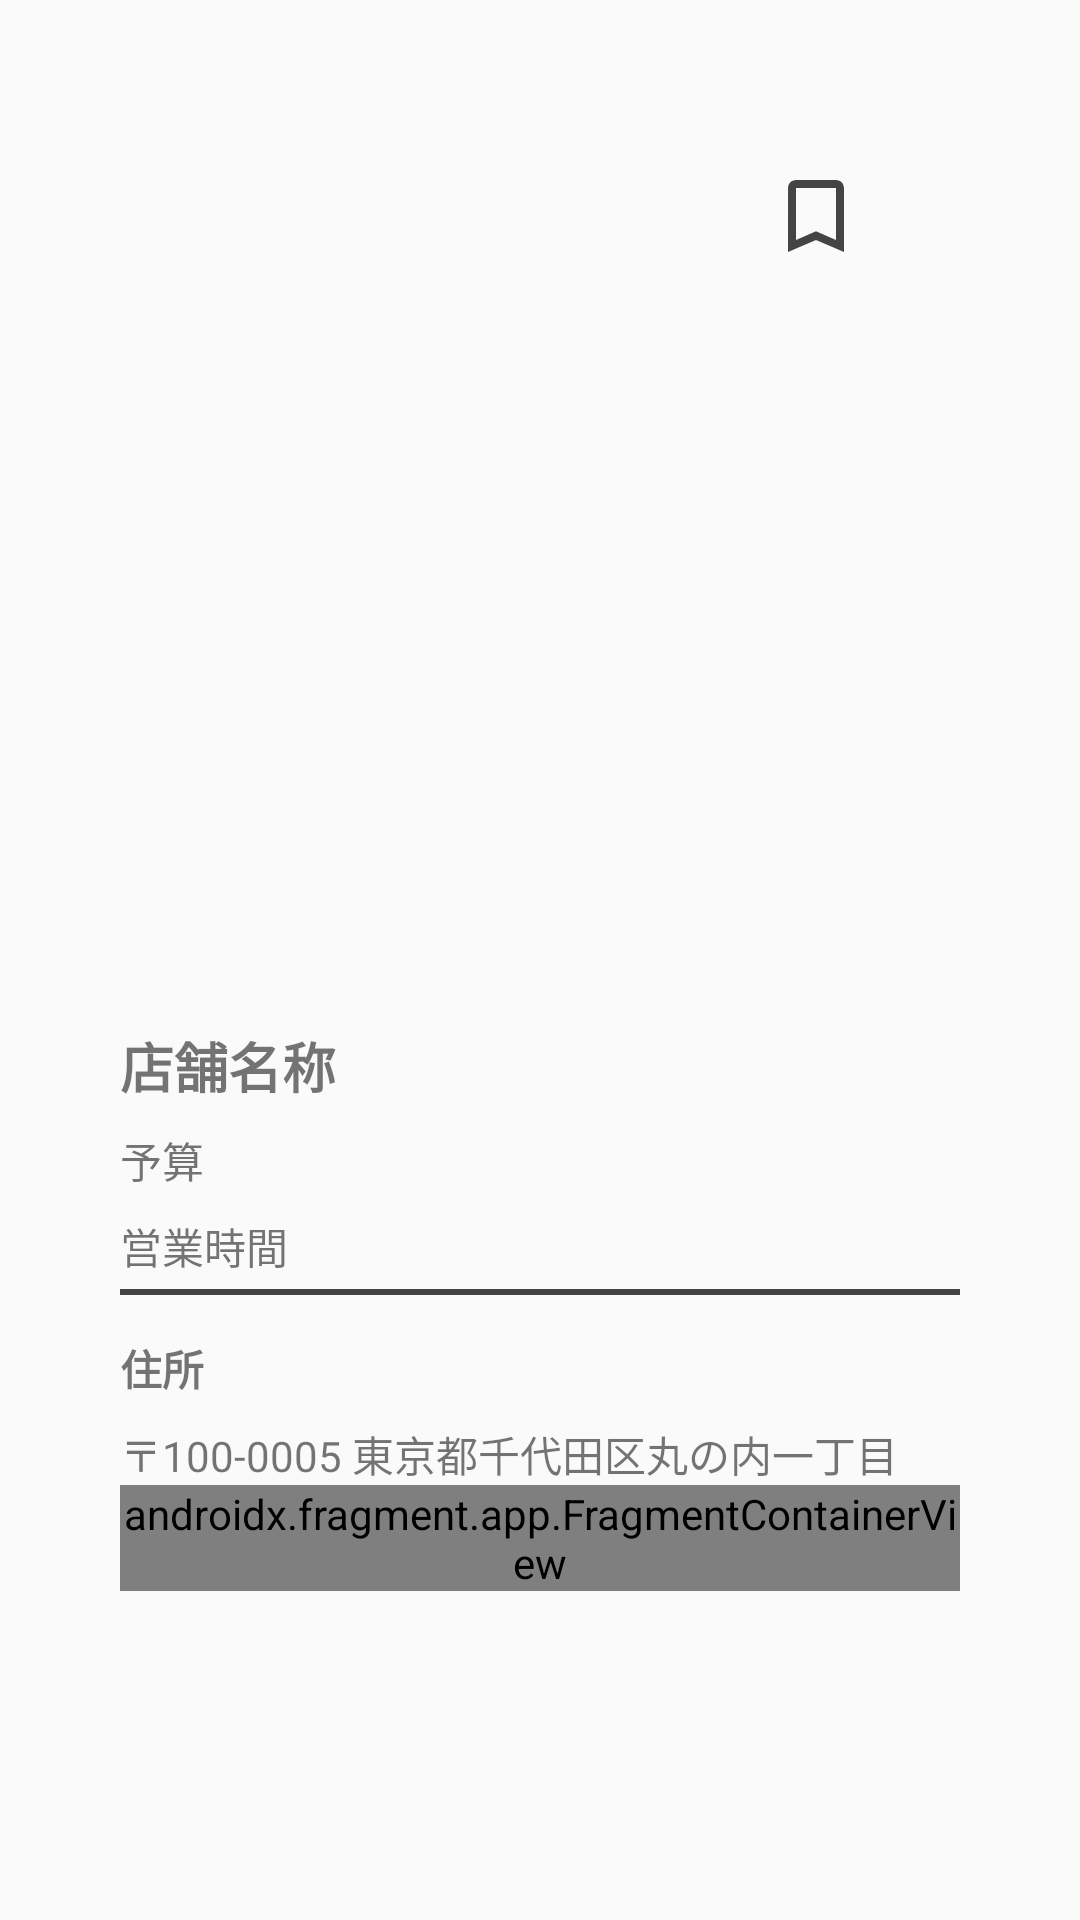

Icon bounding boxes for this 1080w x 1920h phone screenshot, format [left=x1, top=y1, right=x2, bottom=y2]:
bookmark: [left=788, top=180, right=844, bottom=252]
